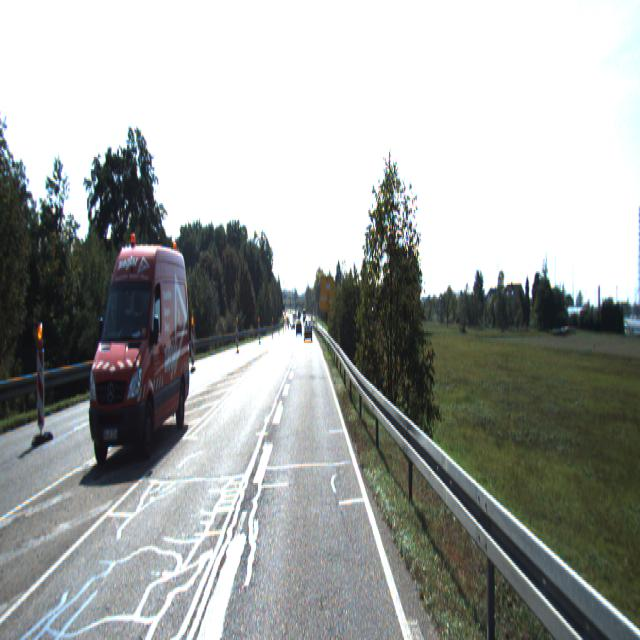Car: (82, 232, 186, 485), (304, 319, 312, 341)
